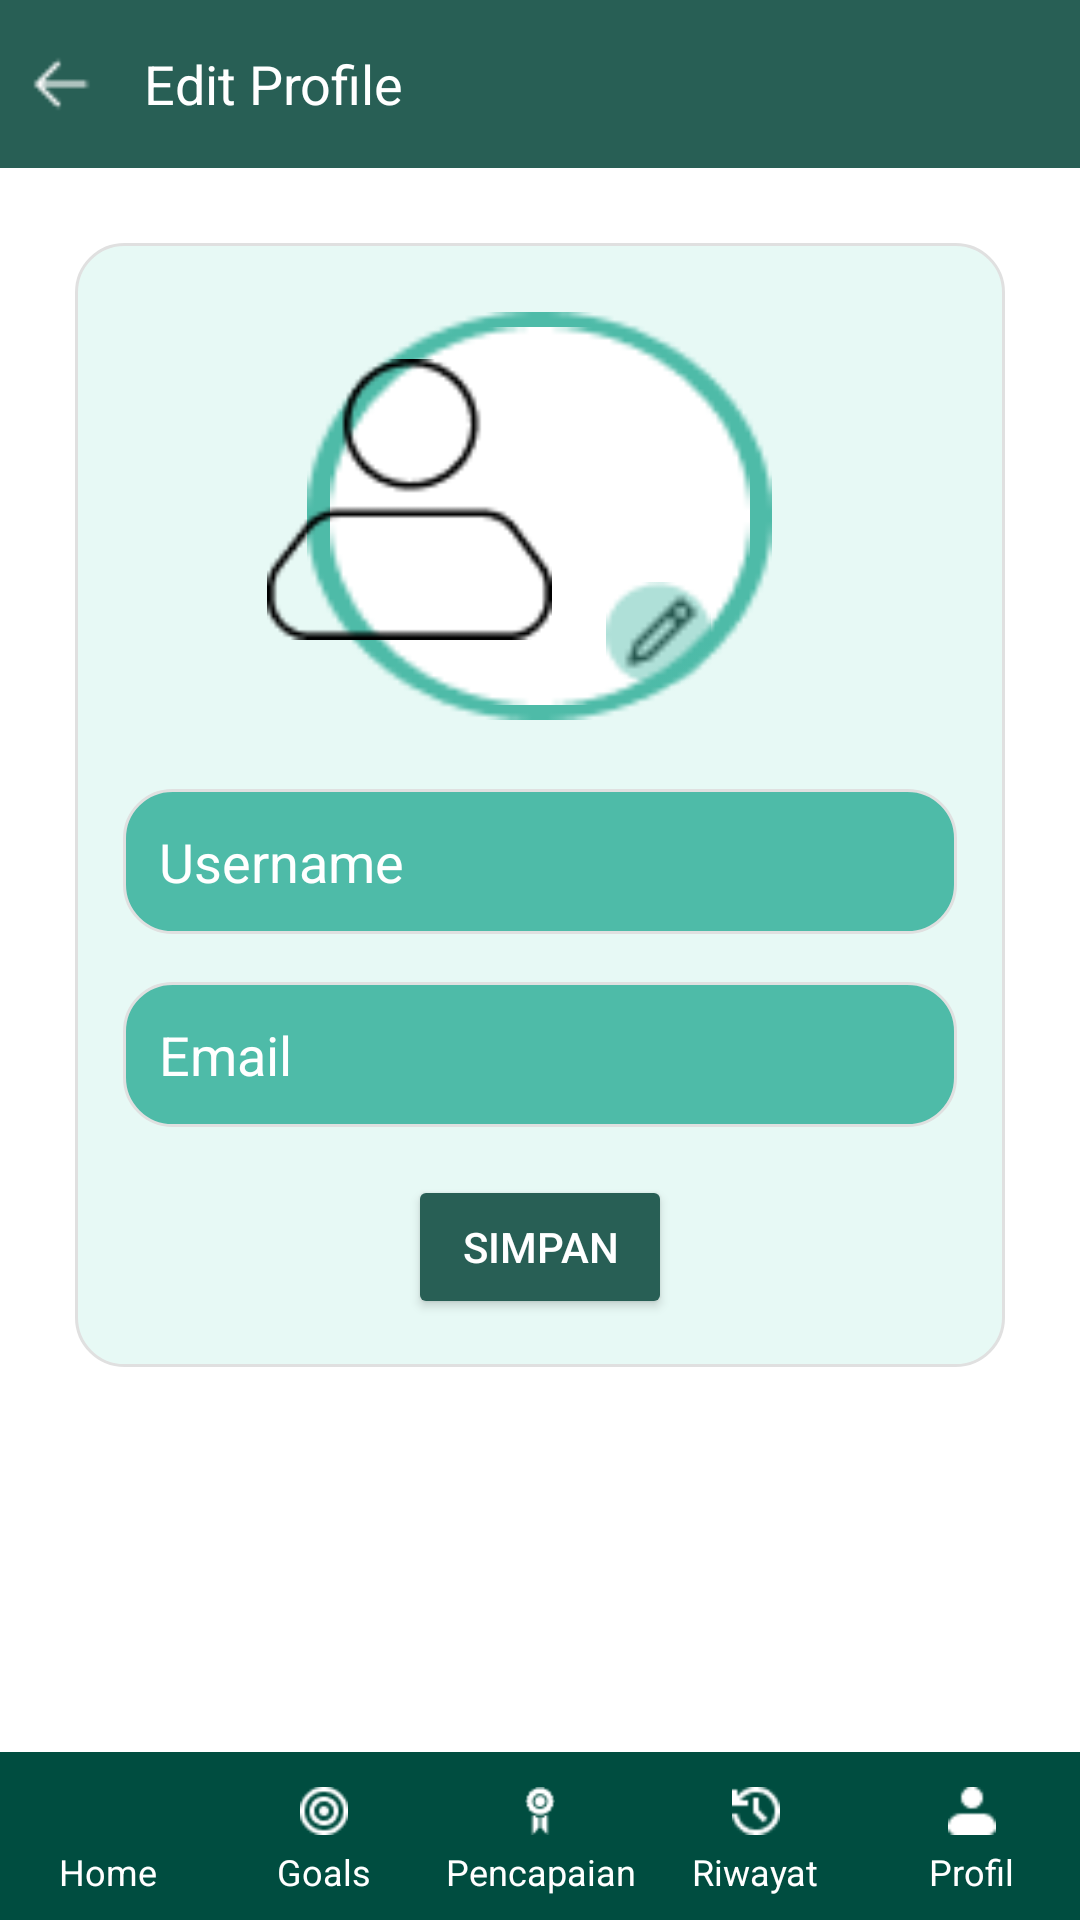

Icon bounding boxes for this 1080x1920 phone screenshot, format (x1, y1, x2, y2):
Back button: (34, 59, 89, 109)
